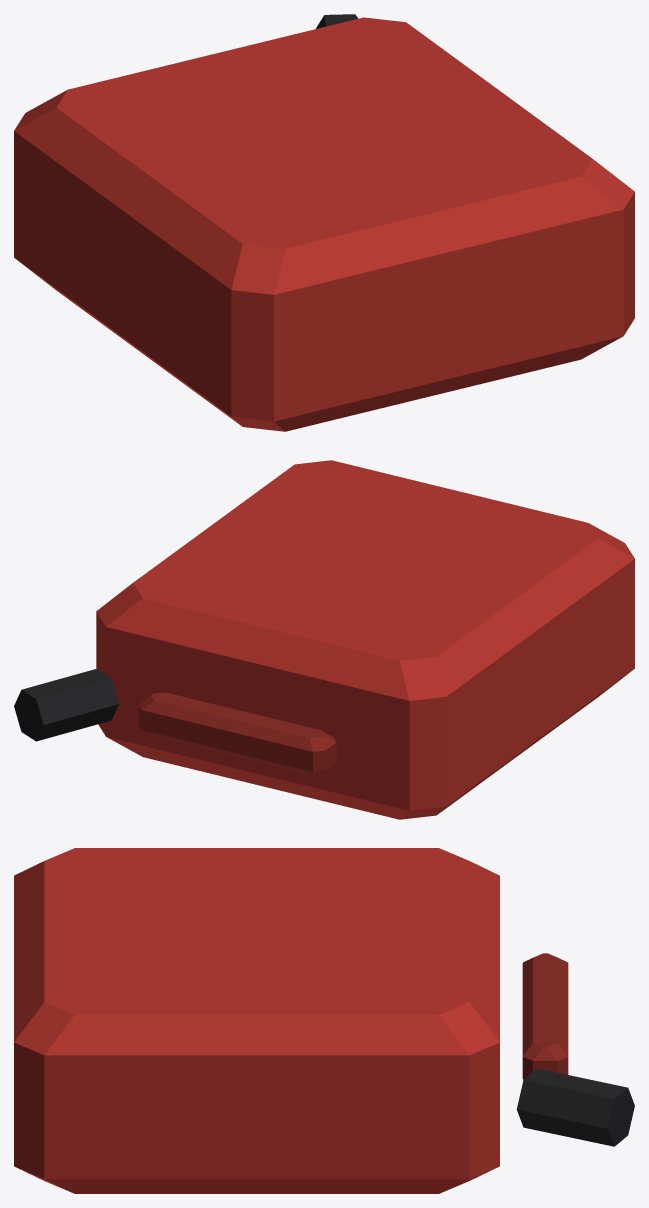
The model's file is SM_FP_Item_Tanica.glb.
3 views of the same model, one above another, from view 1: azimuth 30°, elevation 25°; view 2: azimuth 150°, elevation 25°; view 3: azimuth 270°, elevation 25° (orthographic). The views are drawn at different scales.
Visible parts, largest first — view 1: SM_FP_Item_Tanica; view 2: SM_FP_Item_Tanica; view 3: SM_FP_Item_Tanica.
Part boxes in pixels (x1=…): SM_FP_Item_Tanica: x1=14, y1=14, x2=634, y2=431; SM_FP_Item_Tanica: x1=14, y1=460, x2=634, y2=819; SM_FP_Item_Tanica: x1=14, y1=848, x2=634, y2=1193.
Size of the model in its own units: 0.3179 by 0.13 by 0.4089.
Materials: 1 (1 with a texture image).
